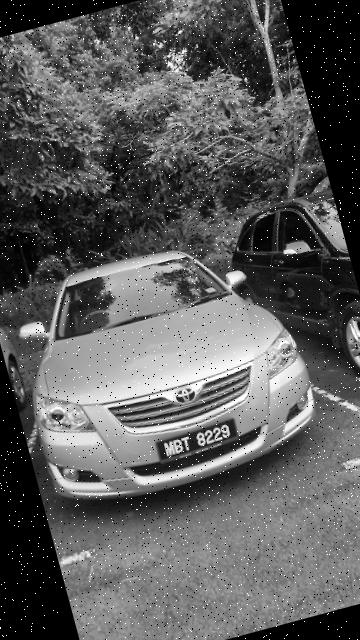License_Plate: (152, 413, 246, 468)
car: (1, 214, 336, 526), (219, 184, 360, 413)
